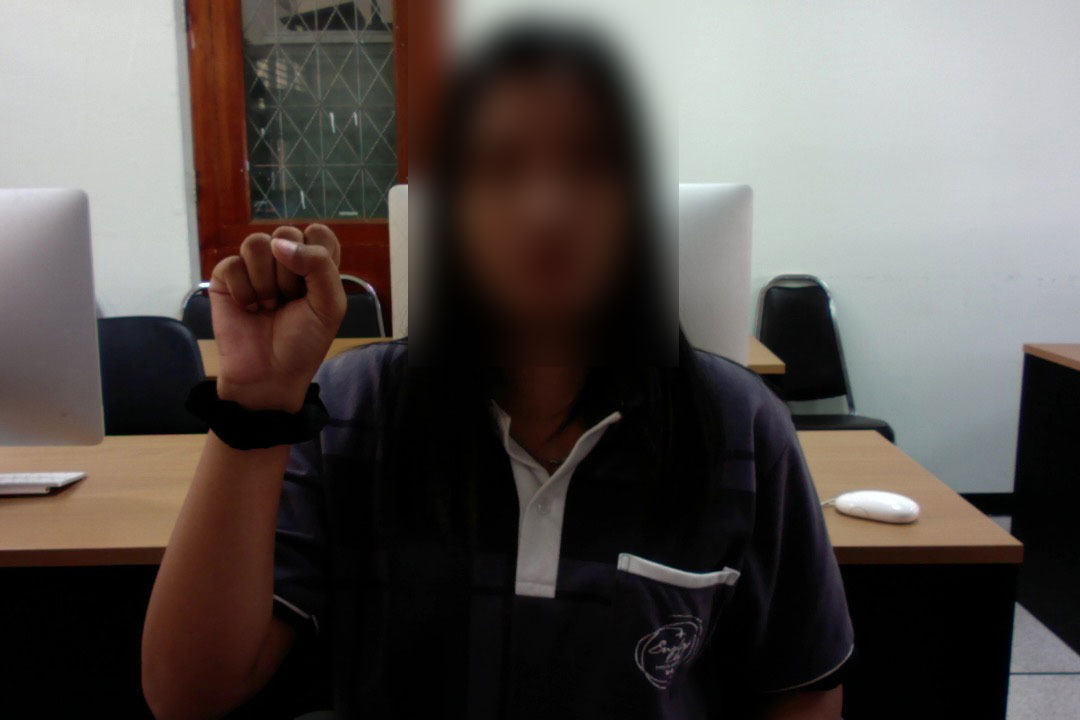sor: (202, 218, 355, 398)
